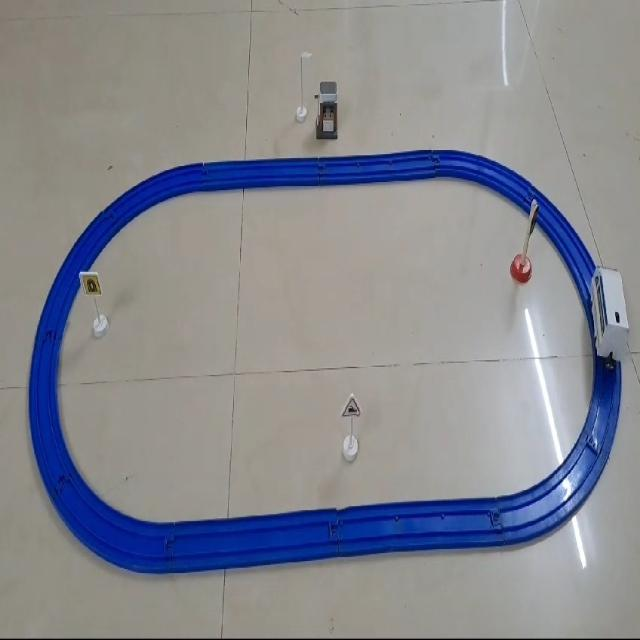bus: (586, 267, 634, 365)
